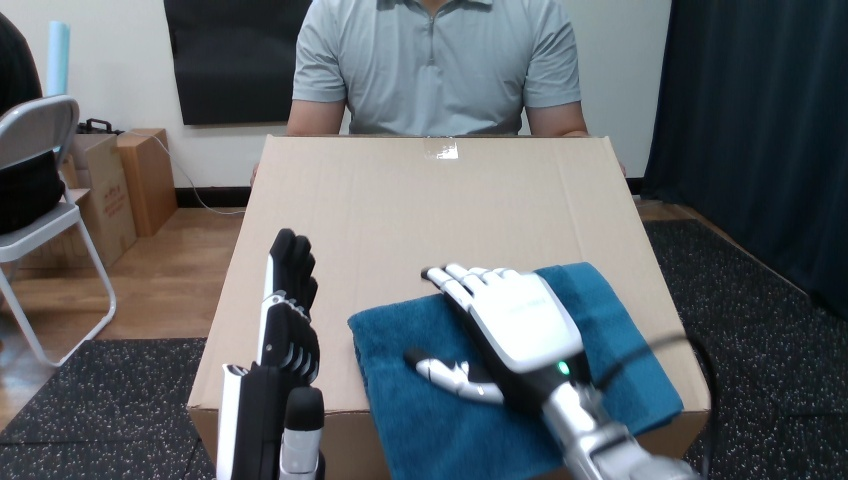left robot hand: (405, 263, 698, 479), (216, 228, 319, 479)
